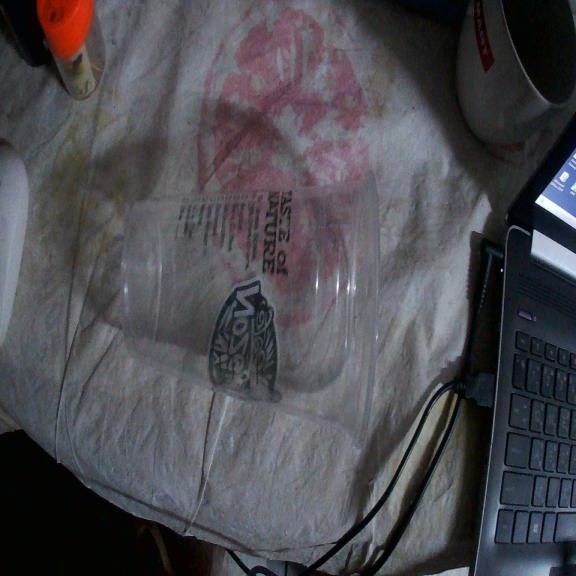Plastik: (122, 173, 378, 445)
